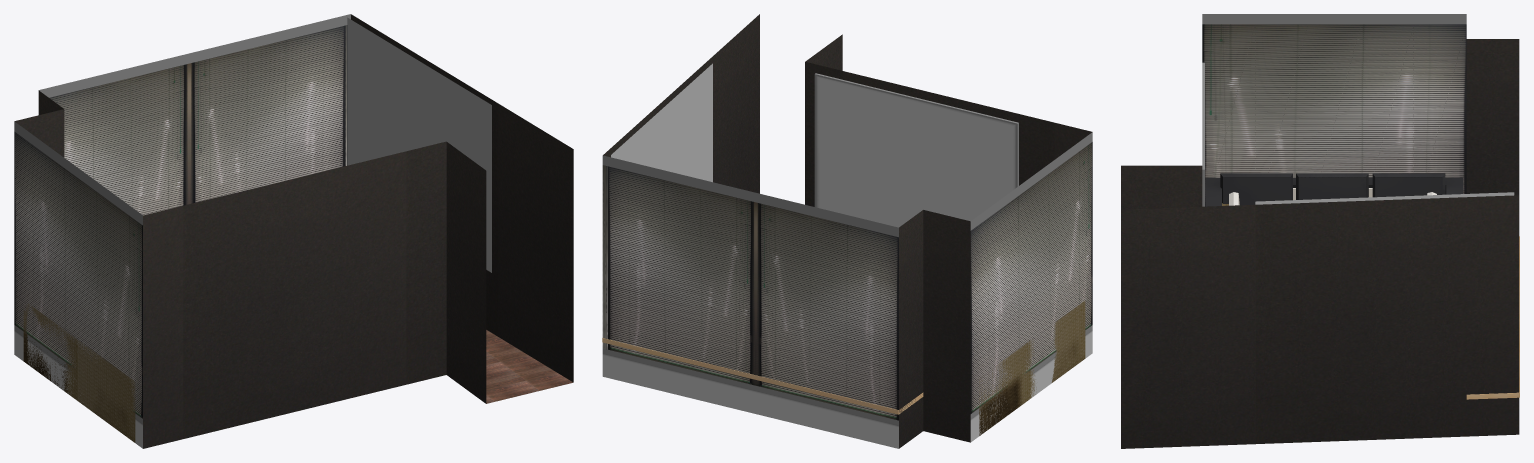
File: lab.fbx
3 renders of one model, left to right at view 1: azimuth 30°, elevation 25°; view 2: azimuth 150°, elevation 25°; view 3: azimuth 270°, elevation 25°, orthographic. The views are drawn at different scales.
Visible parts, largest first — view 1: wall, window, screen, wall2, sofa1, floor, wall3_Sep; view 2: window, wall, wall4, wall2, screen, sofa1, desk1, wall3_Sep; view 3: wall3_Sep, wall, window, sofa2, wall2, screen, desk1, wall4.
Boxes of the visible parts, <box> form: wall: <box>14,90,573,448</box>; window: <box>14,25,347,418</box>; screen: <box>347,17,491,272</box>; wall2: <box>14,14,350,448</box>; sofa1: <box>23,303,135,442</box>; floor: <box>486,330,572,403</box>; wall3_Sep: <box>351,14,498,336</box>; window: <box>602,142,1092,420</box>; wall: <box>707,14,1092,448</box>; wall4: <box>814,73,1018,227</box>; wall2: <box>602,132,1092,448</box>; screen: <box>611,63,712,182</box>; sofa1: <box>979,300,1085,435</box>; desk1: <box>602,338,923,414</box>; wall3_Sep: <box>603,62,706,157</box>; wall3_Sep: <box>1255,195,1519,444</box>; wall: <box>1121,39,1519,448</box>; window: <box>1202,24,1466,206</box>; sofa2: <box>1205,173,1462,206</box>; wall2: <box>1202,14,1466,24</box>; screen: <box>1255,192,1514,204</box>; desk1: <box>1466,236,1519,399</box>; wall4: <box>1202,62,1204,206</box>.
Bounding box in the file's own units: 438 × 250 × 377.
